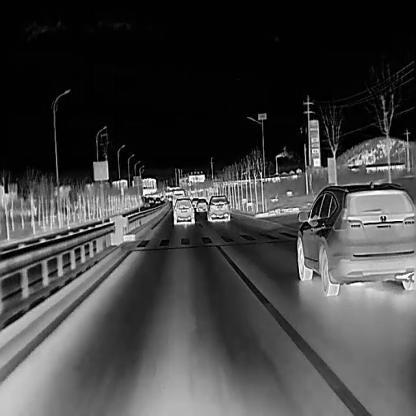car: (295, 178, 415, 296), (205, 194, 229, 221), (171, 198, 194, 225), (171, 188, 185, 211), (195, 197, 207, 212), (190, 197, 198, 208), (153, 197, 160, 204), (148, 196, 154, 204), (144, 200, 150, 206)
